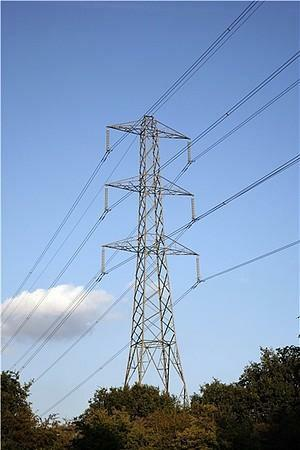power_tower: (99, 109, 205, 399)
